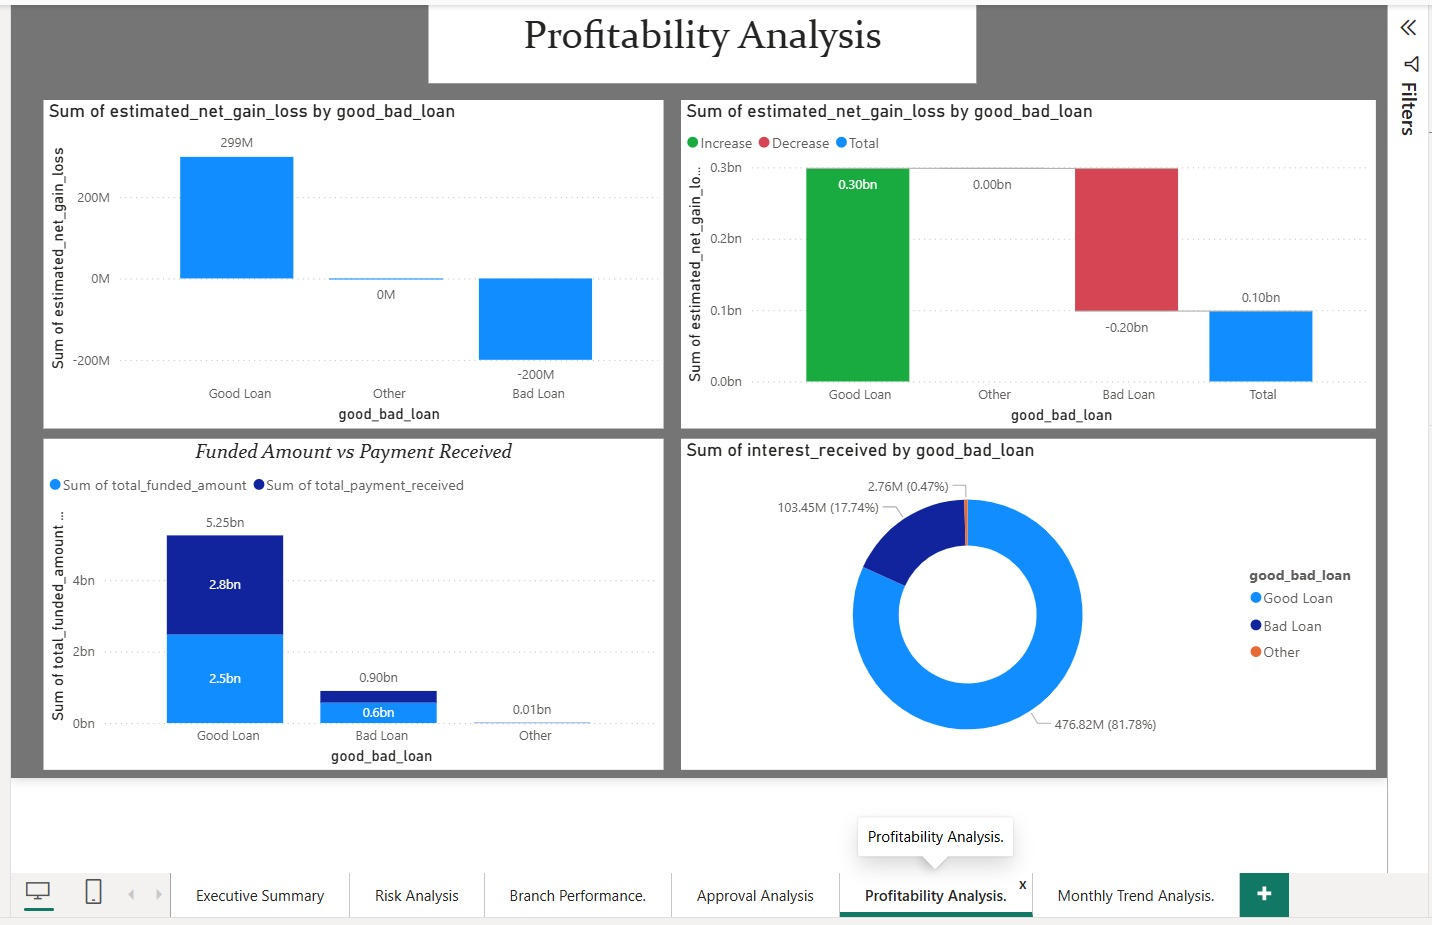

What the dashboard file says about the page in this screenshot:
{"tool":"powerbi","page":{"name":"Profitability Analysis.","canvas":[1280,720],"ordinal":4},"visuals":[{"type":"textbox","box":[388.6,0,509.7,72.4],"z":0},{"type":"clusteredColumnChart","fields":{"Category":["Profitability Analysis.good_bad_loan"],"Y":["Sum(Profitability Analysis.estimated_net_gain_loss)"]},"box":[30.3,88.2,576.9,305.6],"z":1000},{"type":"columnChart","title":"Funded Amount vs Payment Received","fields":{"Category":["Profitability Analysis.good_bad_loan"],"Y":["Sum(Profitability Analysis.total_funded_amount)","Sum(Profitability Analysis.total_payment_received)"]},"box":[30.3,403,576.9,308.2],"z":2000},{"type":"waterfallChart","fields":{"Category":["Profitability Analysis.good_bad_loan"],"Y":["Sum(Profitability Analysis.estimated_net_gain_loss)"]},"box":[623,88.2,646.7,305.6],"z":3000},{"type":"donutChart","fields":{"Category":["Profitability Analysis.good_bad_loan"],"Y":["Sum(Profitability Analysis.interest_received)"]},"box":[623,403,646.7,308.2],"z":4000}]}

Visuals, with their boxes on the page's 1280x720 design canvas (x1, y1, x2, y2). These are canvas units, not pixel positions in the 1432x925 screenshot, which may show the page scaled, cropped or inside an application window:
textbox: x1=389 y1=0 x2=898 y2=72
clusteredColumnChart - Profitability Analysis.good_bad_loan x Sum(Profitability Analysis.estimated_net_gain_loss): x1=30 y1=88 x2=607 y2=394
"Funded Amount vs Payment Received" columnChart: x1=30 y1=403 x2=607 y2=711
waterfallChart - Profitability Analysis.good_bad_loan x Sum(Profitability Analysis.estimated_net_gain_loss): x1=623 y1=88 x2=1270 y2=394
donutChart - Profitability Analysis.good_bad_loan x Sum(Profitability Analysis.interest_received): x1=623 y1=403 x2=1270 y2=711
